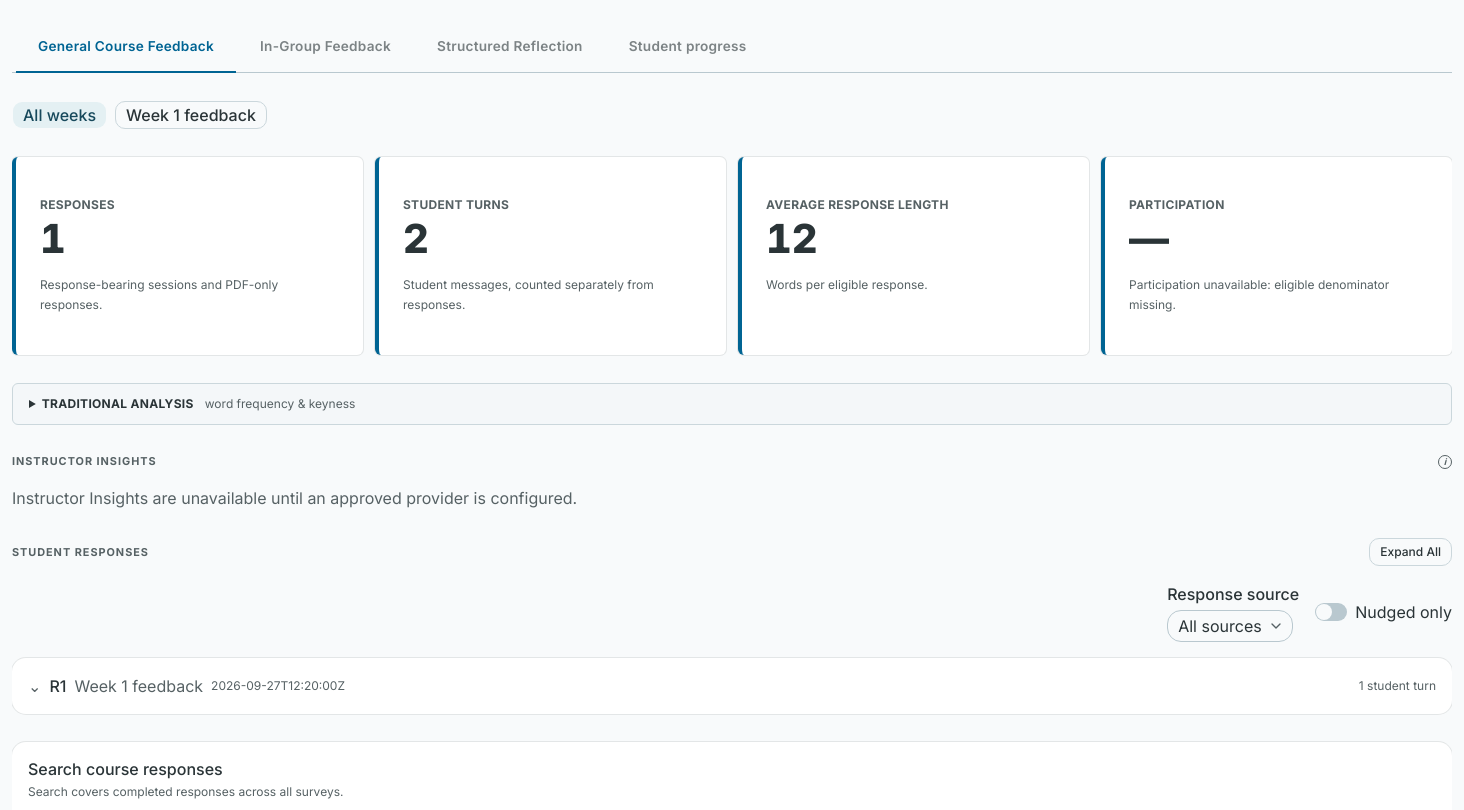
Test: exposes anonymous progress only when selected
The image size is (1464, 810).
Step 1. Click the tab "Student progress" → (688,46), box [606,23,770,69]
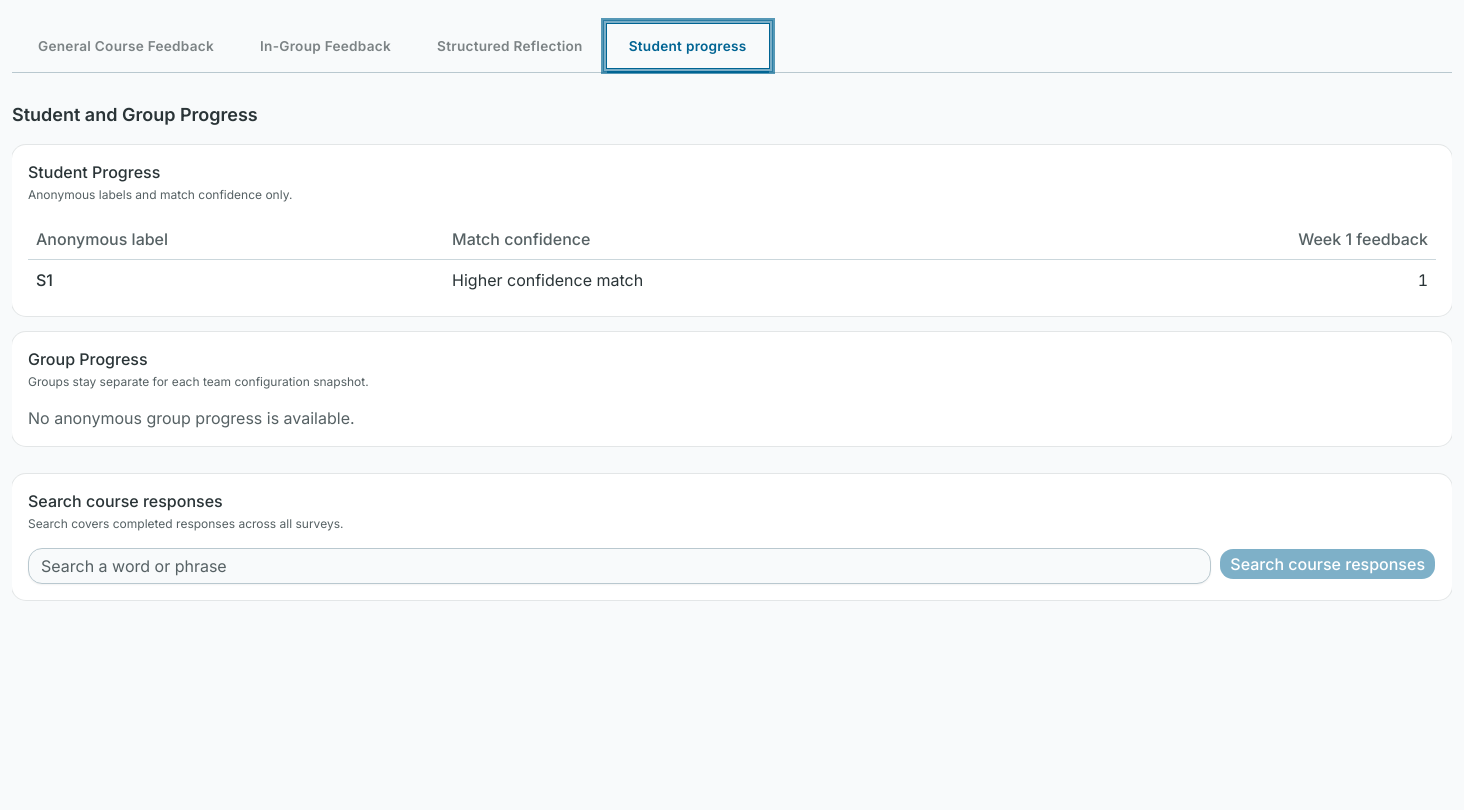
expect the text "Anonymous labels and match confidence only." is shown: met, box [28,187,292,202]
expect the row "S1 Higher confidence match 1" is shown: met, box [28,260,1436,300]
